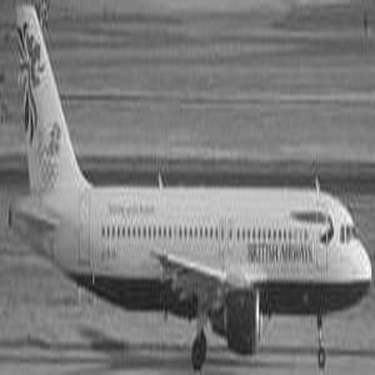airplane: (3, 1, 365, 370)
